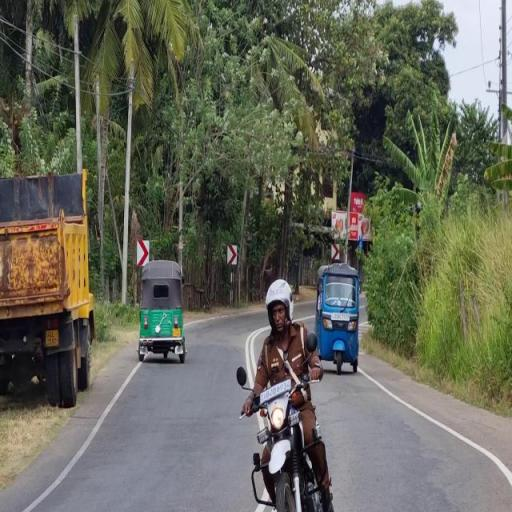double_white_line: (16, 358, 138, 511)
